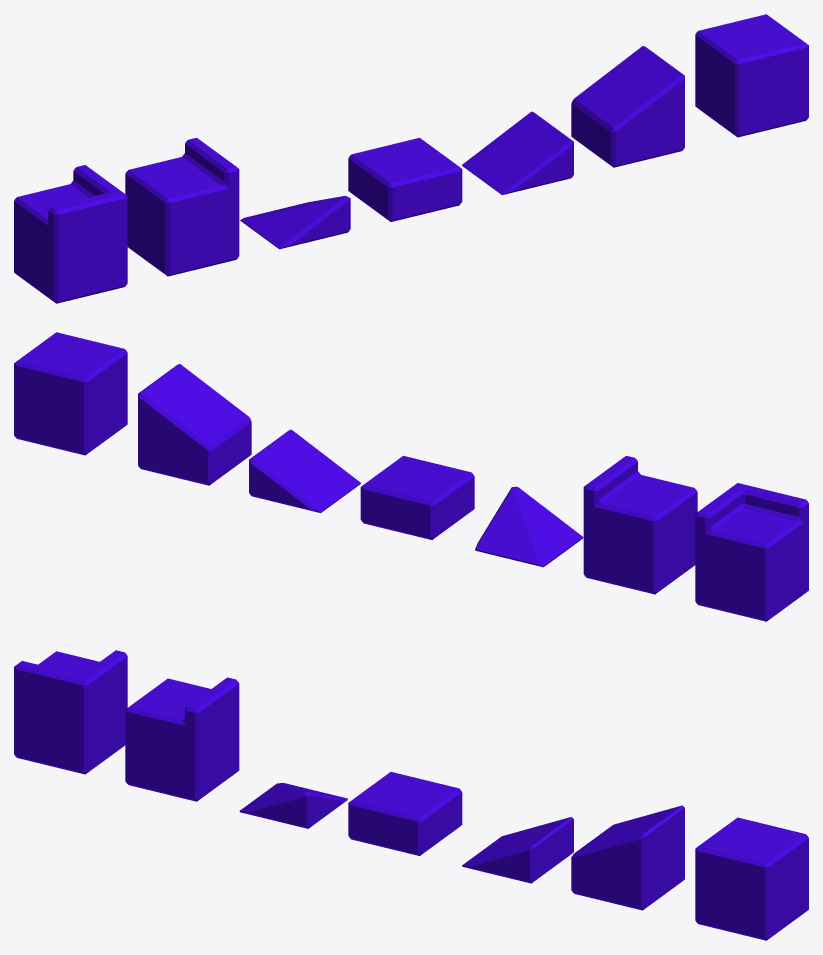
Rendered from Blocks.glb.
3 renders of one model, top to bottom at view 1: azimuth 30°, elevation 25°; view 2: azimuth 150°, elevation 25°; view 3: azimuth 330°, elevation 25°, orthographic.
Parts seen in each view (by area): view 1: BlockWallCorner, BlockWall, Block, RampTop, BlockShort, RampBottom, RampLowerCorner; view 2: BlockWallCorner, BlockWall, Block, RampTop, BlockShort, RampBottom, RampLowerCorner; view 3: BlockWallCorner, BlockWall, Block, RampTop, BlockShort, RampBottom, RampLowerCorner.
Boxes of the visible parts, bbox=[...] form: BlockWallCorner: bbox=[14, 165, 127, 303]; BlockWall: bbox=[125, 137, 239, 276]; Block: bbox=[695, 14, 808, 137]; RampTop: bbox=[571, 46, 684, 167]; BlockShort: bbox=[348, 137, 462, 221]; RampBottom: bbox=[462, 111, 573, 194]; RampLowerCorner: bbox=[240, 195, 350, 249]; BlockWallCorner: bbox=[695, 483, 808, 621]; BlockWall: bbox=[583, 455, 697, 594]; Block: bbox=[14, 332, 127, 455]; RampTop: bbox=[138, 364, 251, 485]; BlockShort: bbox=[360, 455, 474, 539]; RampBottom: bbox=[249, 429, 360, 512]; RampLowerCorner: bbox=[475, 486, 583, 567]; BlockWallCorner: bbox=[14, 650, 127, 774]; BlockWall: bbox=[125, 677, 239, 801]; Block: bbox=[695, 817, 808, 940]; RampTop: bbox=[571, 805, 684, 910]; BlockShort: bbox=[348, 772, 462, 855]; RampBottom: bbox=[462, 817, 573, 883]; RampLowerCorner: bbox=[239, 783, 347, 828].
Size of what is drawn, in the model's own units: 20.33 by 2.4 by 2.
